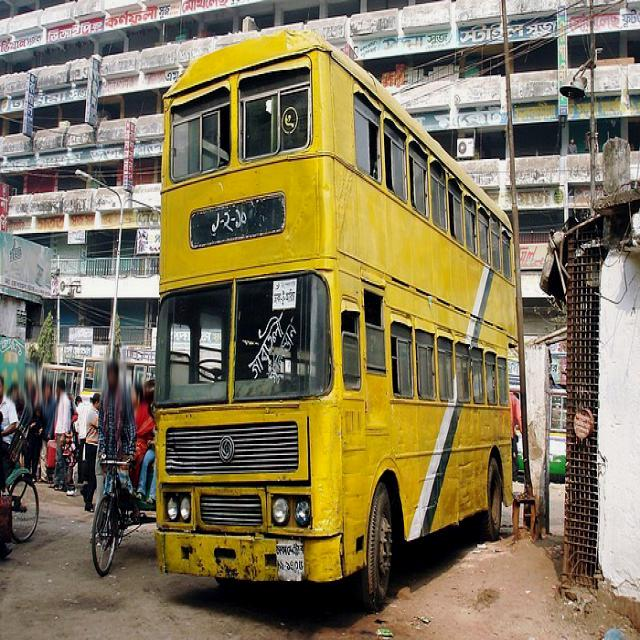bus: (153, 28, 520, 616)
